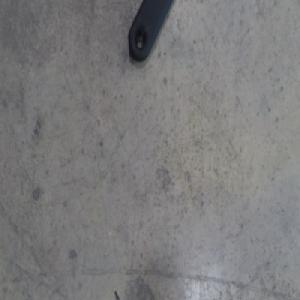AdjustableWrench: (129, 0, 168, 60)
